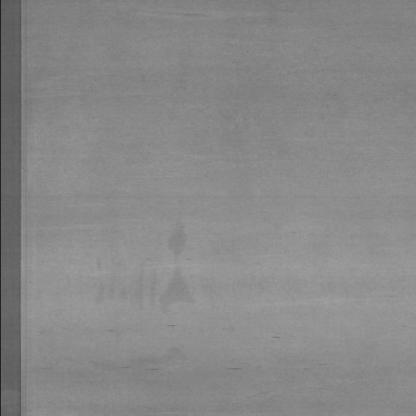oil_spot: (156, 221, 200, 309)
welding_line: (5, 0, 34, 416)
